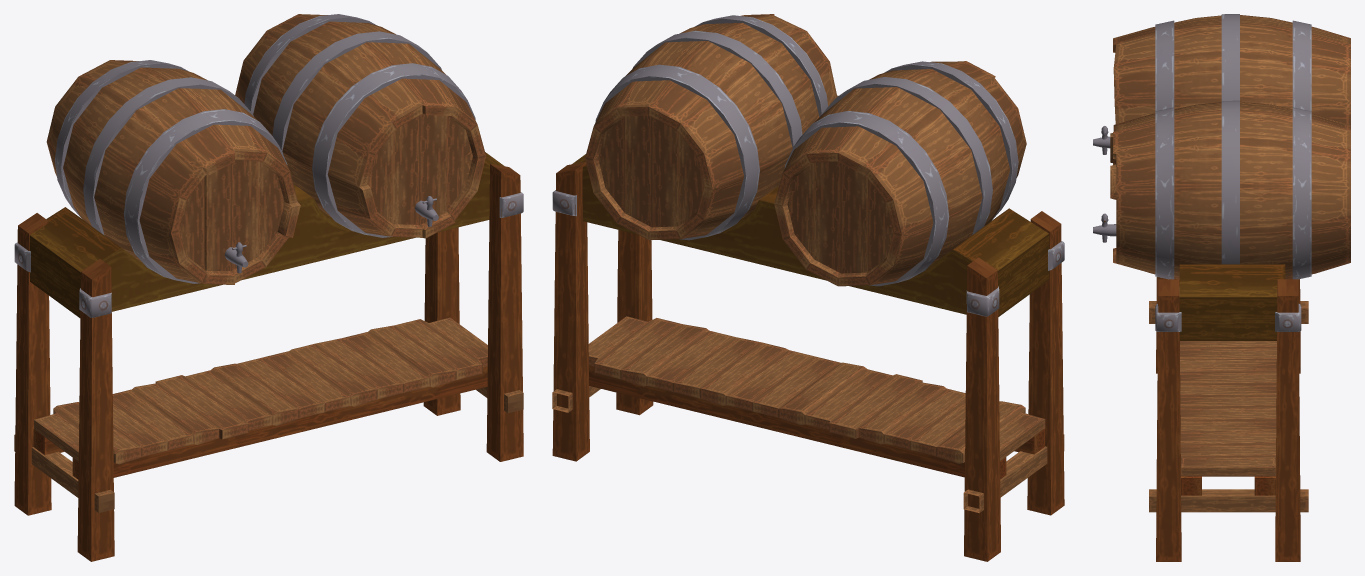
Rendered from barrel_holder.glb.
The picture shows the model from 3 angles, left to right: view 1: azimuth 30°, elevation 25°; view 2: azimuth 150°, elevation 25°; view 3: azimuth 270°, elevation 25°; orthographic projection. The views are drawn at different scales.
Visible parts, largest first — view 1: Barrel_Holder; view 2: Barrel_Holder; view 3: Barrel_Holder.
Boxes of the visible parts, bbox=[...] form: Barrel_Holder: bbox=[14, 14, 523, 561]; Barrel_Holder: bbox=[552, 14, 1064, 561]; Barrel_Holder: bbox=[1093, 14, 1350, 561].
Size of the model in its own units: 1.36 by 1.26 by 0.741.
2 materials, 2 textured.
